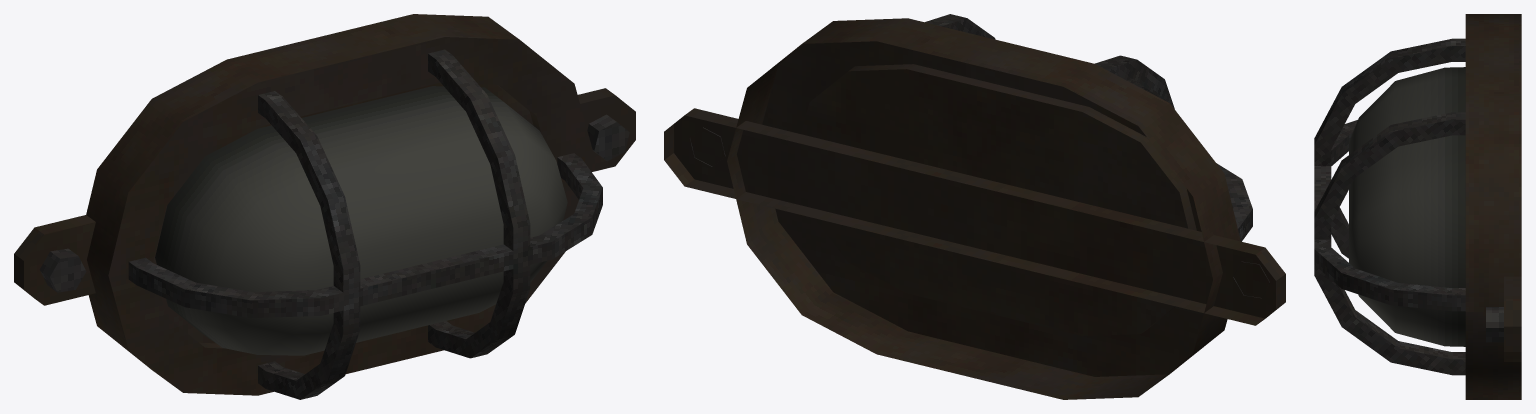
The model's file is lamp_2_2_off.glb.
The picture shows the model from 3 angles, left to right: view 1: azimuth 30°, elevation 25°; view 2: azimuth 150°, elevation 25°; view 3: azimuth 270°, elevation 25°; orthographic projection. The views are drawn at different scales.
Parts seen in each view (by area): view 1: lamp_2_2_off; view 2: lamp_2_2_off; view 3: lamp_2_2_off.
Part boxes in pixels (<box>): lamp_2_2_off: <box>14,14,635,399</box>; lamp_2_2_off: <box>664,14,1285,399</box>; lamp_2_2_off: <box>1314,14,1521,399</box>.
Bounding box in the file's own units: 0.36 × 0.176 × 0.119.
3 materials, 3 textured.
